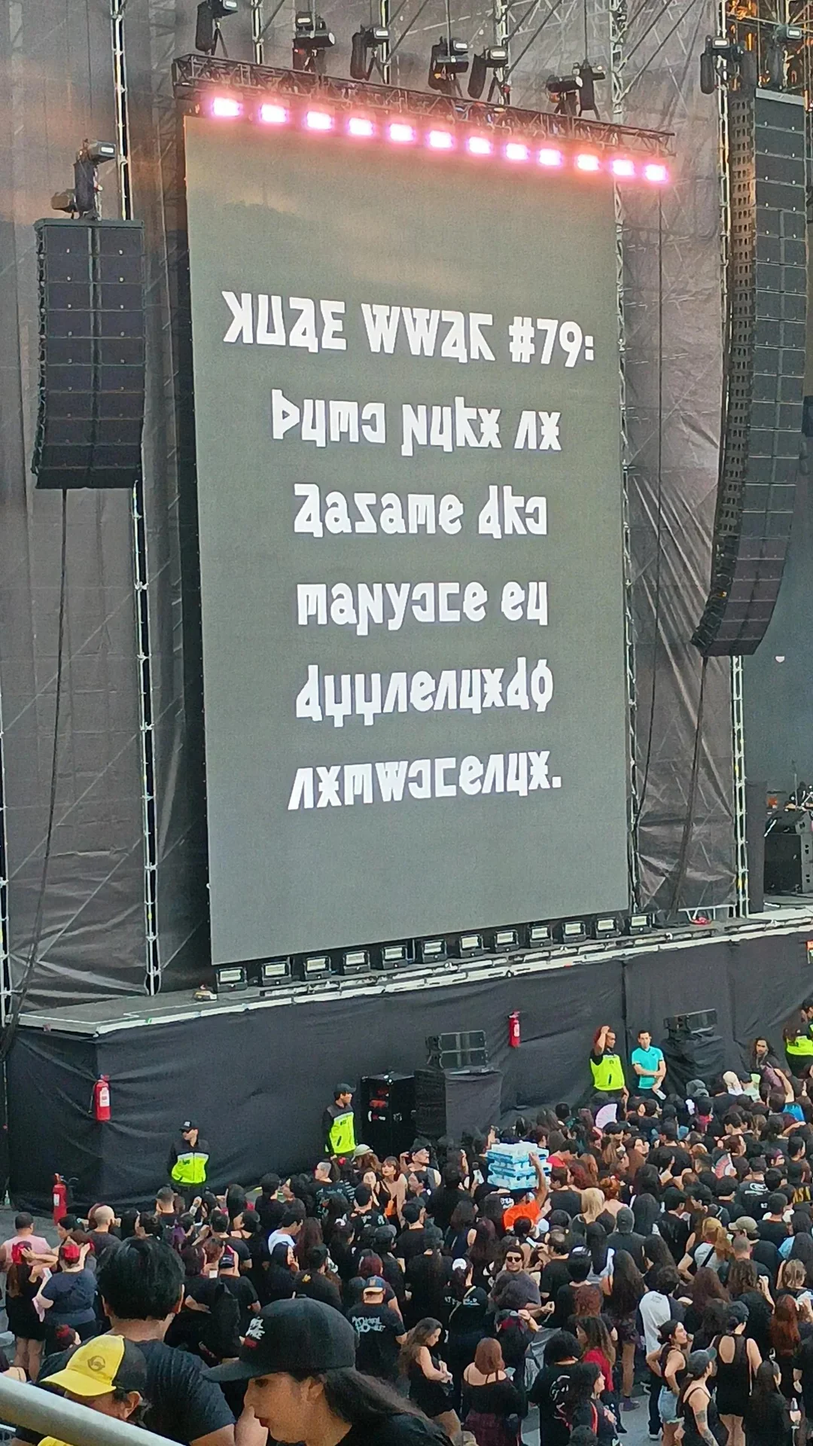7: (532, 313, 561, 369)
9: (557, 318, 586, 374)
A: (288, 482, 325, 541), (436, 308, 472, 365), (287, 291, 319, 355)
M: (220, 284, 257, 351)
O: (255, 288, 288, 352)
P: (359, 300, 407, 358), (399, 302, 442, 361)
R: (465, 308, 501, 365)
T: (316, 291, 350, 356)
TH: (269, 384, 302, 442)
a: (293, 662, 326, 725), (474, 484, 503, 542), (503, 655, 532, 713)
b: (398, 401, 431, 458), (355, 580, 386, 636)
c: (430, 755, 461, 803), (434, 579, 462, 626)
d: (322, 670, 354, 730), (359, 671, 385, 721)
e: (357, 398, 391, 449), (522, 488, 550, 545), (409, 577, 439, 630), (405, 757, 436, 804)
g: (349, 488, 384, 539)
i: (287, 763, 316, 815), (512, 407, 541, 455), (381, 668, 409, 717), (433, 668, 461, 717), (481, 752, 507, 797)
j: (382, 578, 414, 635)
l: (527, 656, 556, 713)
n: (475, 405, 504, 453), (536, 407, 565, 455), (478, 665, 506, 714), (315, 762, 343, 810), (527, 748, 554, 793)
o: (299, 394, 332, 452), (425, 401, 455, 456), (457, 668, 485, 716), (525, 578, 551, 628), (504, 752, 531, 798)
p: (373, 757, 409, 806)
r: (450, 394, 481, 452), (500, 484, 528, 541)
s: (292, 577, 329, 630), (327, 396, 360, 447), (405, 489, 438, 539), (341, 762, 375, 809)
t: (435, 491, 467, 539), (409, 669, 437, 718), (461, 578, 489, 626), (498, 579, 526, 626), (459, 754, 485, 799)
u: (321, 487, 355, 539), (326, 579, 359, 628), (377, 490, 408, 539)
